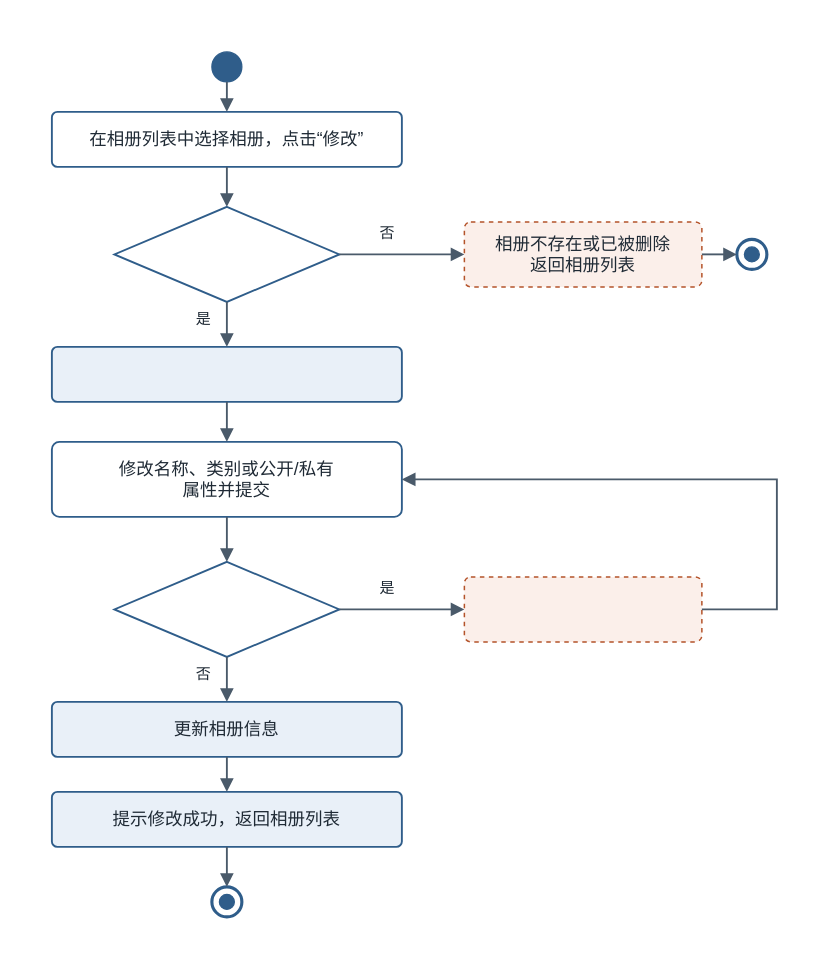
The diagram is 838 pixels wide and 968 high, and some of its shapes have lost their labels. Here are the shapes that lost their labels. From the top down, the box of each, then its label:
(113, 205, 340, 302): 相册存在？
(50, 345, 402, 402): 显示该相册的现有信息
(113, 560, 340, 657): 名称为空？
(463, 576, 702, 642): 提示名称为空
